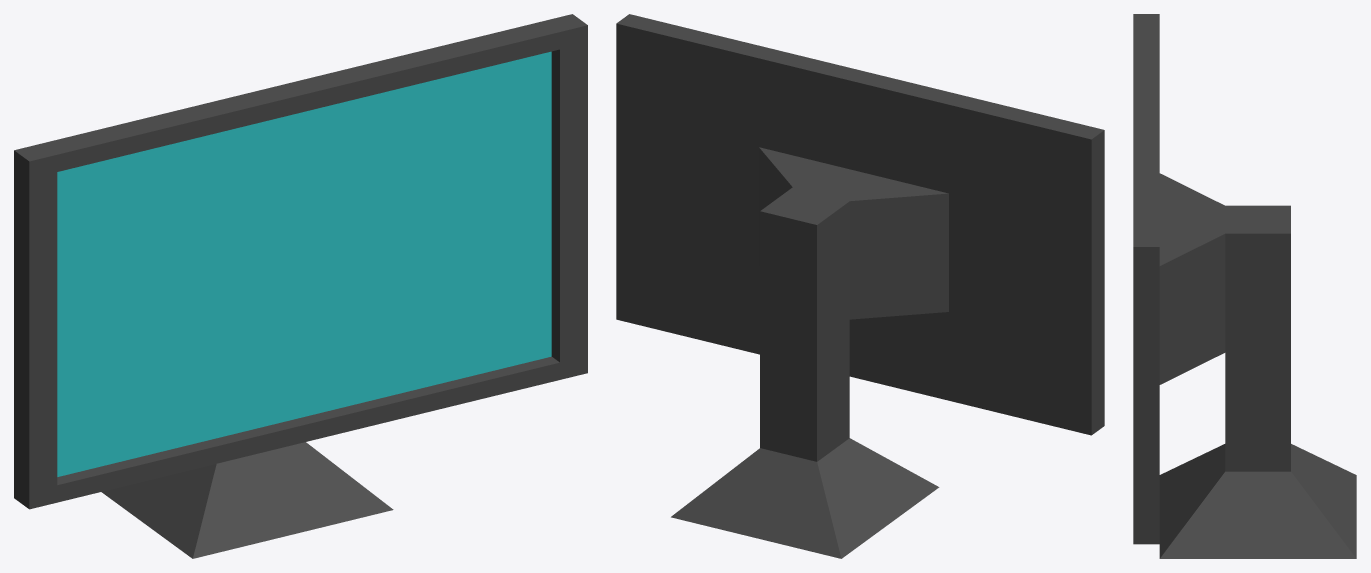
The model's file is Computer Screen.fbx.
3 views of the same model, side by side, from view 1: azimuth 30°, elevation 25°; view 2: azimuth 150°, elevation 25°; view 3: azimuth 270°, elevation 25° (orthographic). The views are drawn at different scales.
Visible parts, largest first — view 1: Computer Screen; view 2: Computer Screen; view 3: Computer Screen.
Part boxes in pixels (x1,y1,x2,y2): Computer Screen: (14,14,587,558); Computer Screen: (616,14,1104,558); Computer Screen: (1133,14,1356,558).
Bounding box in the file's own units: 1680 × 1300 × 680.
